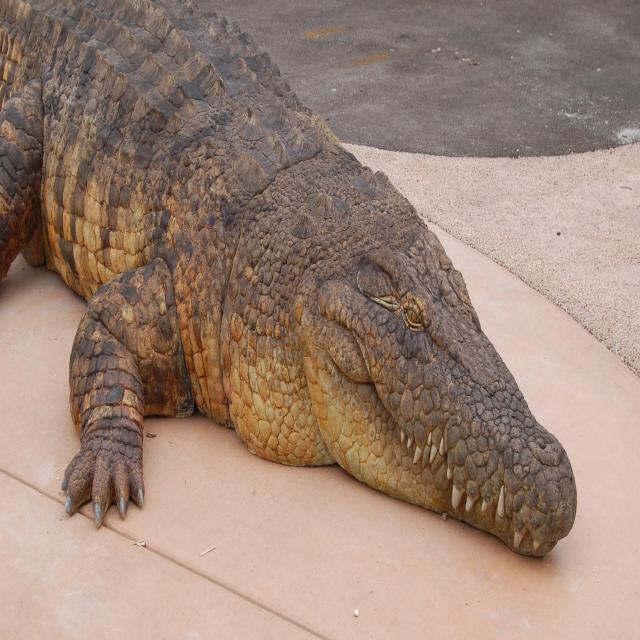crocodile: (1, 2, 583, 570)
